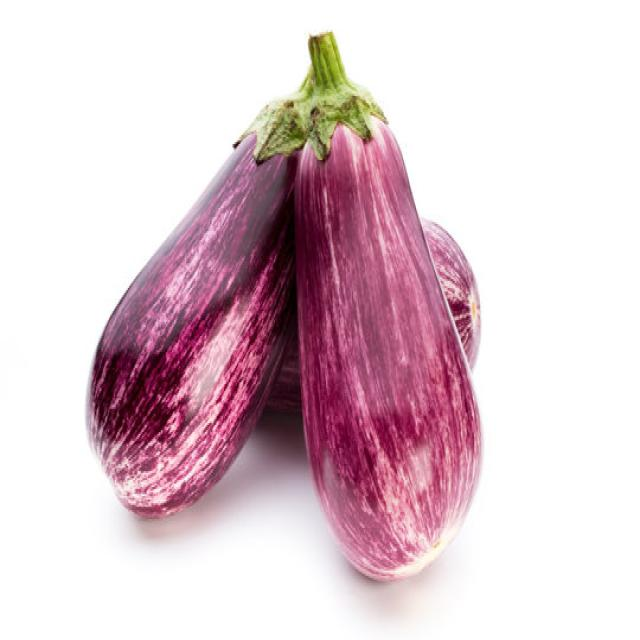Eggplant: (288, 29, 482, 582), (84, 125, 300, 519), (418, 215, 482, 372)
